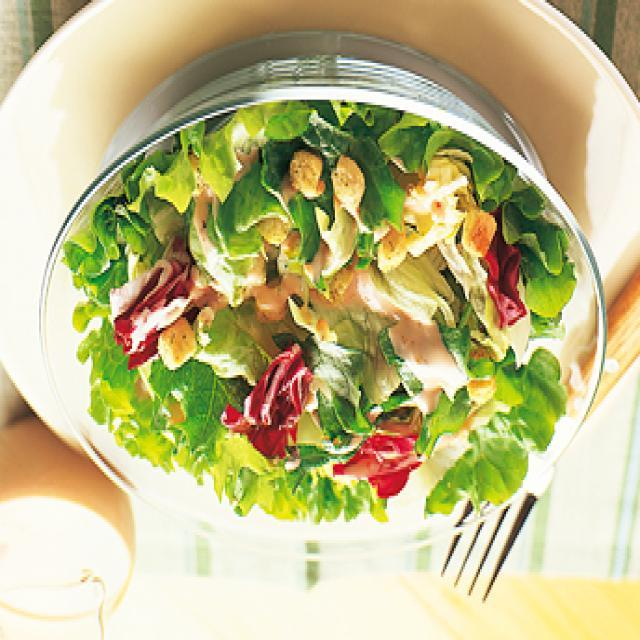Green Salad: (90, 120, 580, 518)
